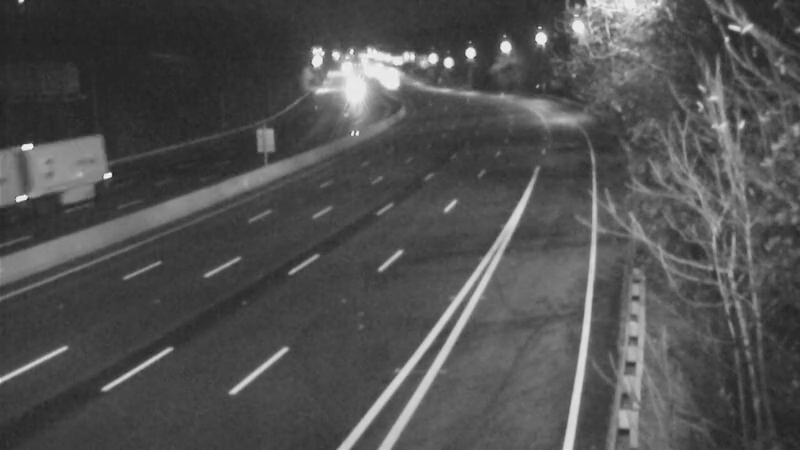vehicle: (2, 146, 82, 226), (366, 57, 416, 107), (327, 70, 377, 120)
